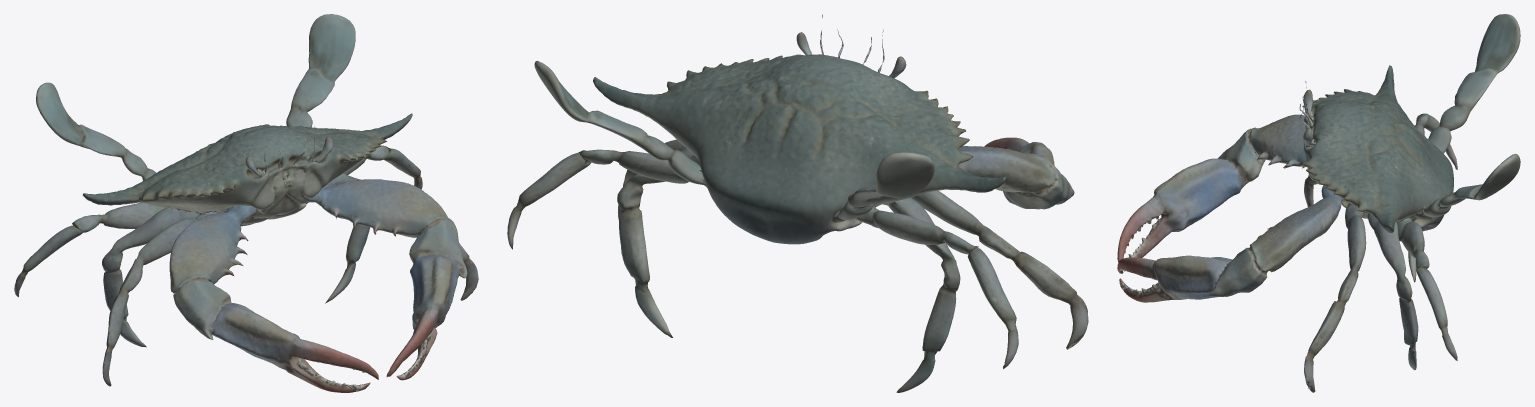
The model's file is krabbe.glb.
3 renders of one model, left to right at view 1: azimuth 30°, elevation 25°; view 2: azimuth 150°, elevation 25°; view 3: azimuth 270°, elevation 25°, orthographic. The views are drawn at different scales.
Parts seen in each view (by area): view 1: Object_2; view 2: Object_2; view 3: Object_2.
Boxes of the visible parts, left/top/right/bottom form: Object_2: left=14, top=14, right=478, bottom=392; Object_2: left=507, top=14, right=1088, bottom=392; Object_2: left=1117, top=14, right=1520, bottom=392.
Bounding box in the file's own units: 1 × 0.5663 × 0.8623.
